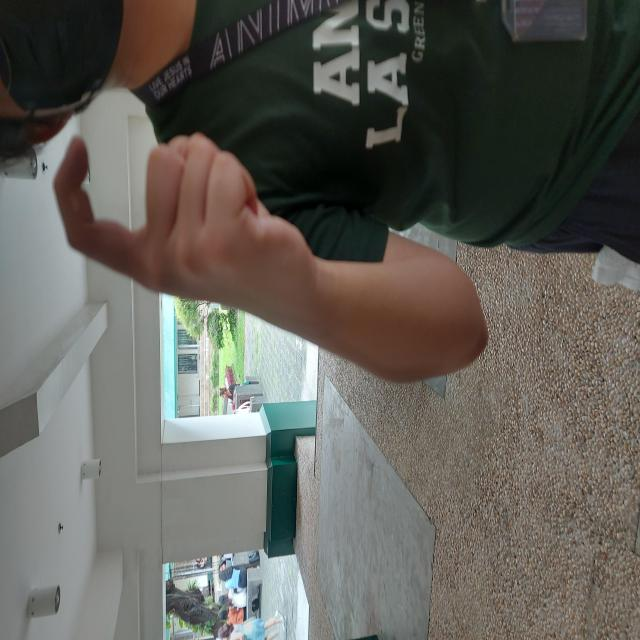X: (329, 51, 511, 317)
